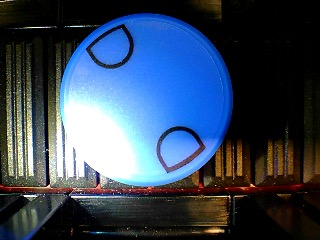MIPO2: (59, 13, 234, 187)
